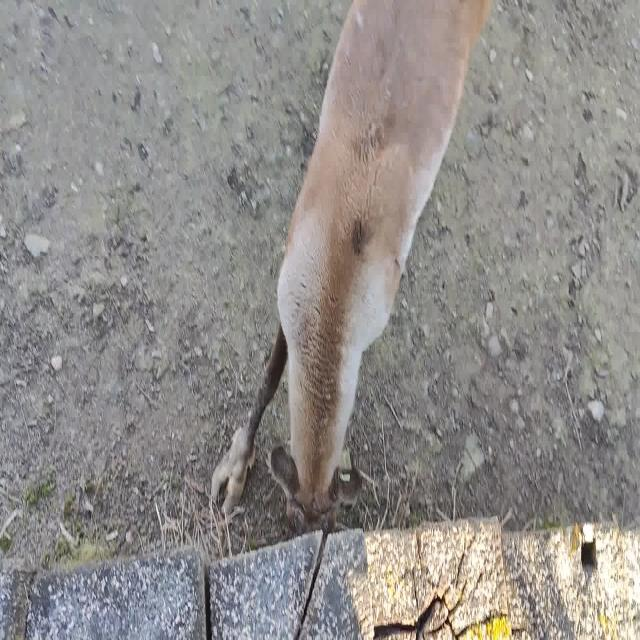deer: (211, 0, 491, 532)
